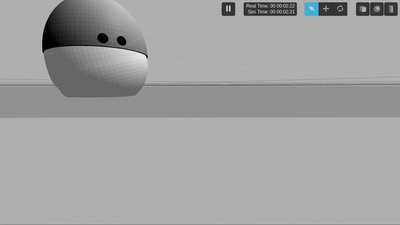mira_robot: (43, 1, 149, 98)
